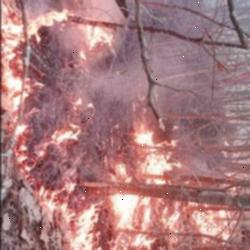fire: (0, 0, 250, 248)
